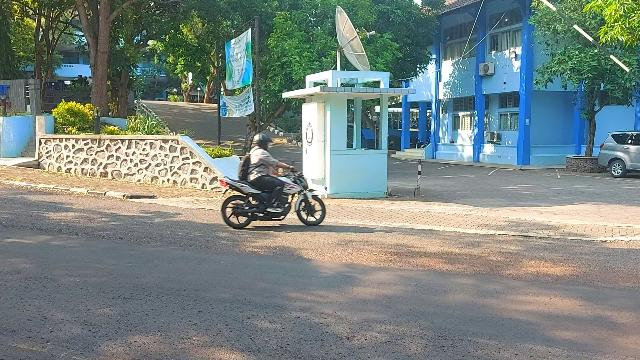helm: (254, 135, 275, 151)
motor: (217, 160, 327, 230)
